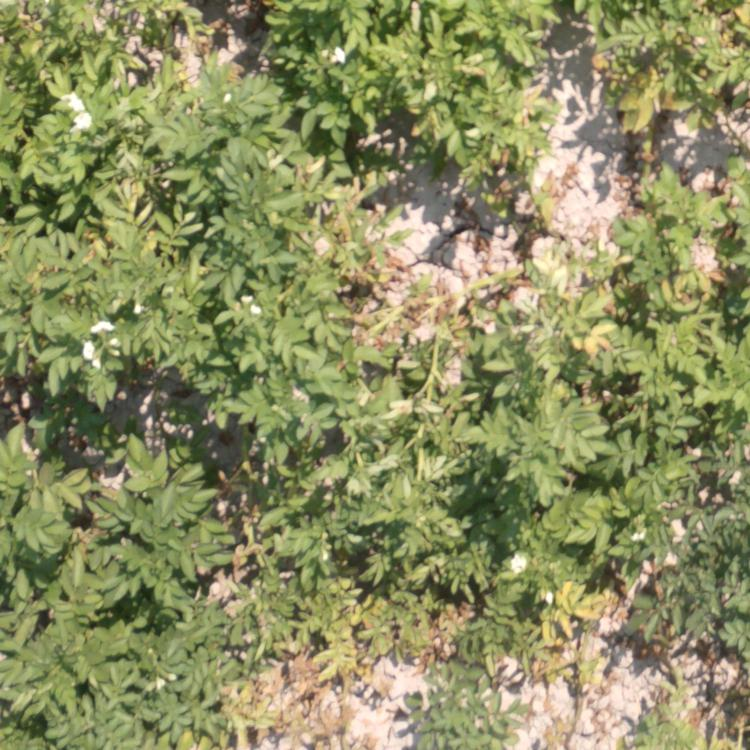healthy: (5, 1, 292, 414), (1, 445, 162, 750), (293, 6, 559, 181), (184, 428, 653, 524), (668, 354, 750, 702), (311, 350, 642, 416), (313, 197, 390, 332)
stressed: (166, 537, 654, 750), (522, 198, 711, 341), (586, 1, 750, 148)
